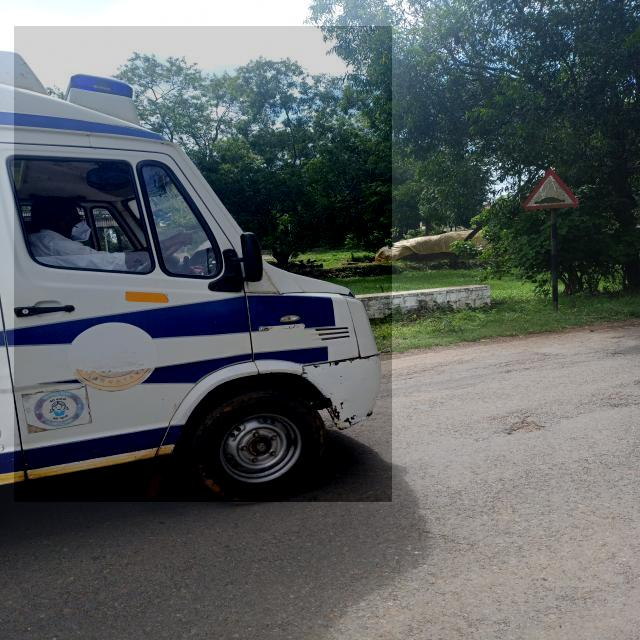Travller: (14, 26, 392, 502)
